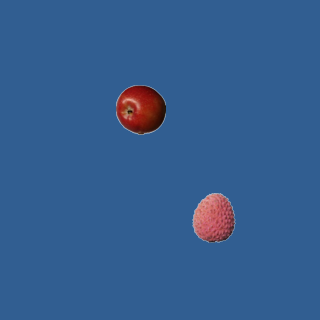Apple Braeburn: (115, 84, 165, 134)
Lychee: (188, 192, 238, 242)
